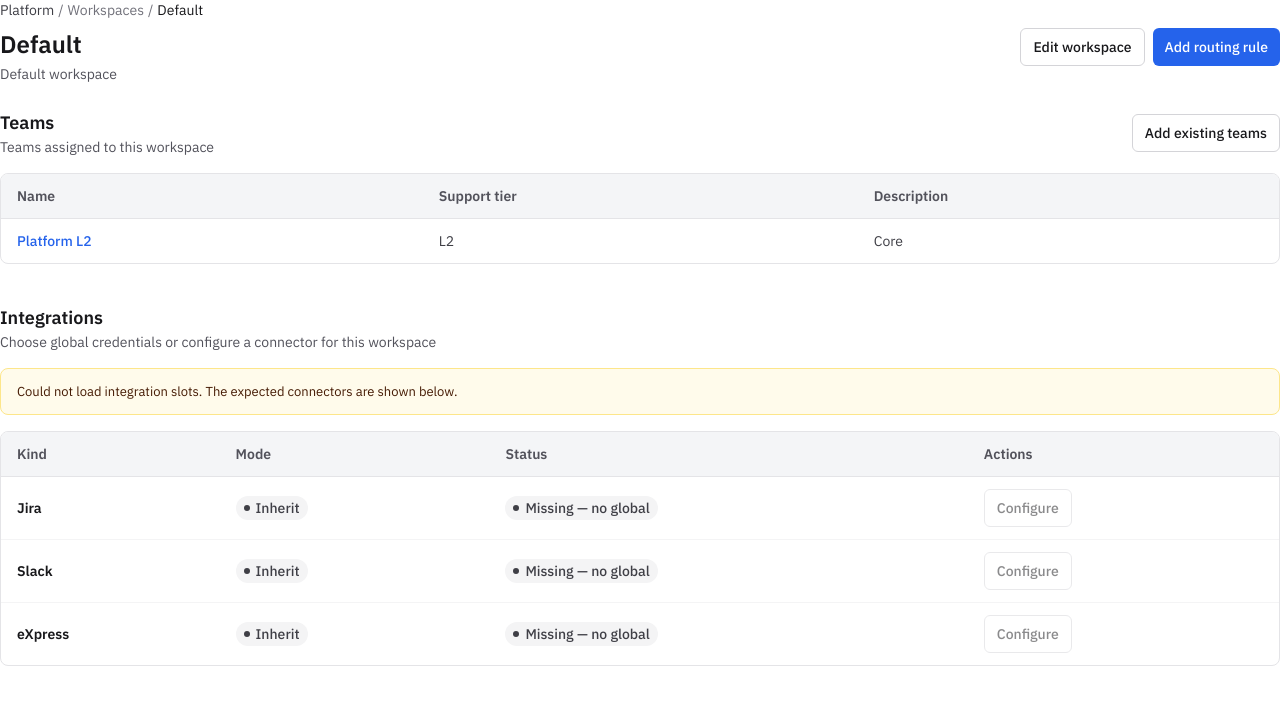
Test case: WorkspaceDetailPage › shows blocked assign error on 409
The width and height of the screenshot is (1280, 709).
Click the button "Add existing teams" at (1206, 133), box [1132,114,1279,152]
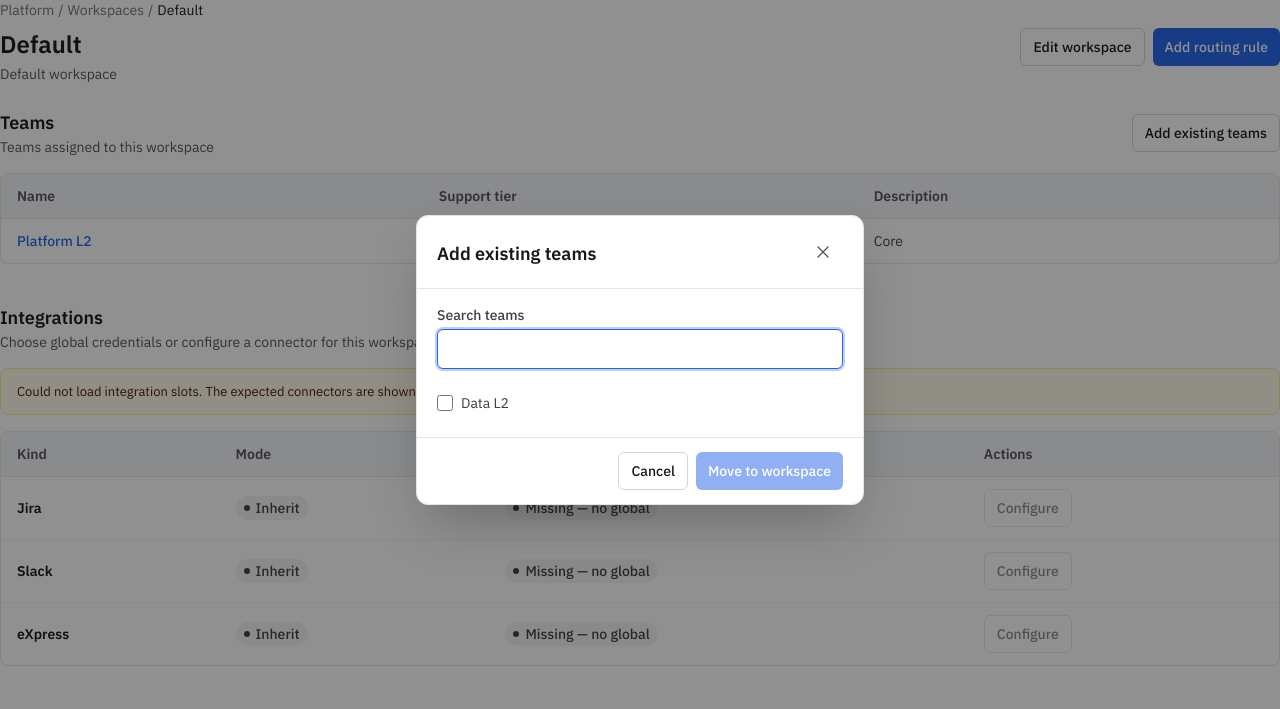
Click the checkbox labelled "Data L2" at (445, 403), box [437,395,453,411]
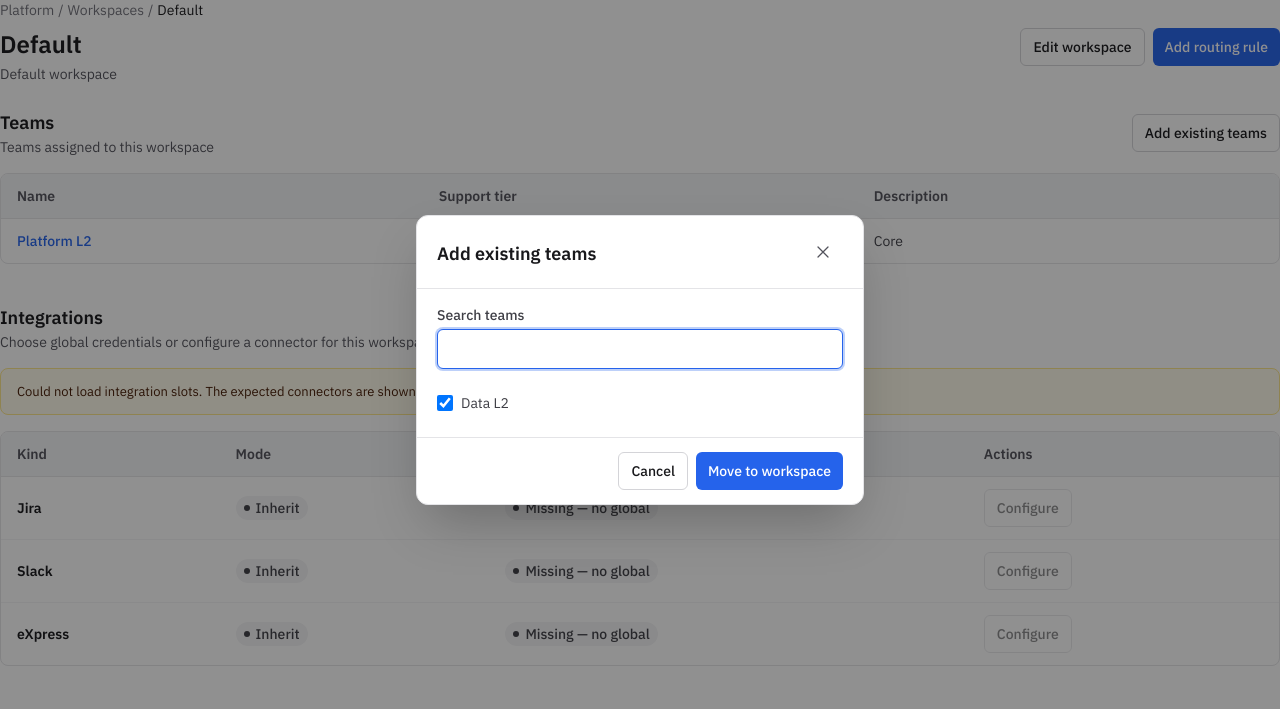
Click the button "Move to workspace" at (769, 471), box [696,452,843,490]
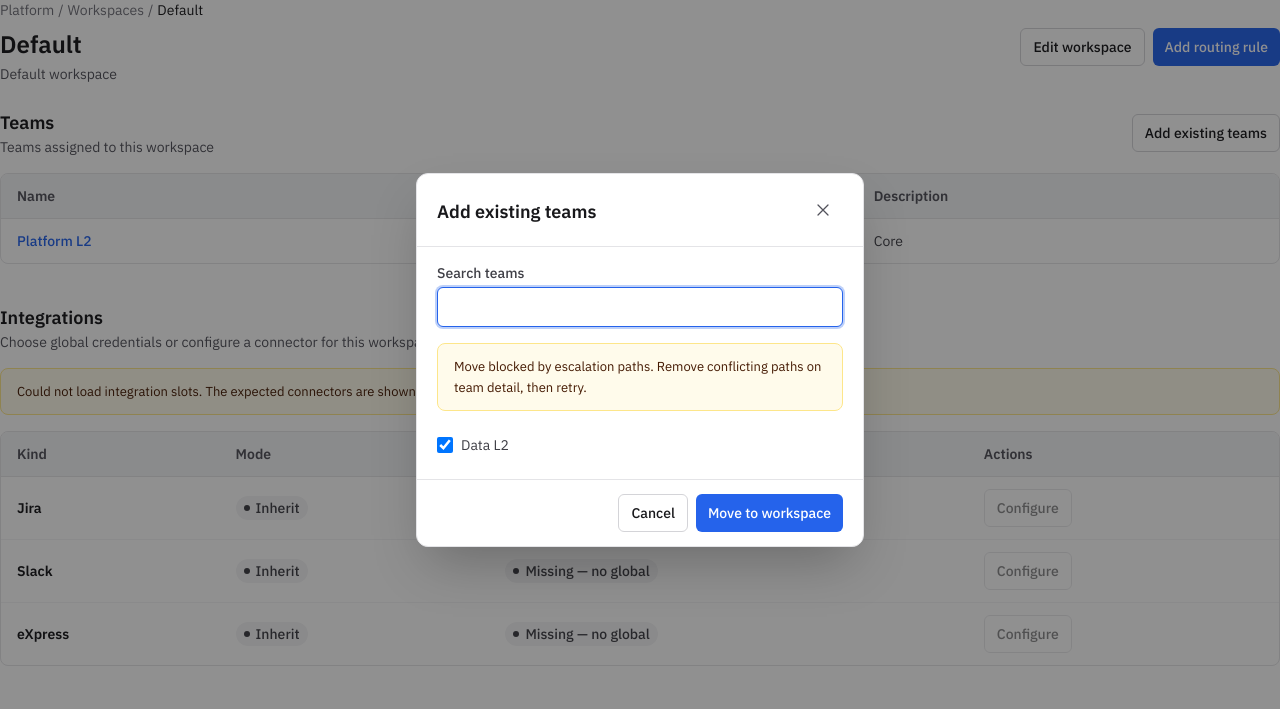
Check: the text "Move blocked by escalation paths. Remove conflicting paths on team detail, then retry." is shown, box [454,358,821,396]
